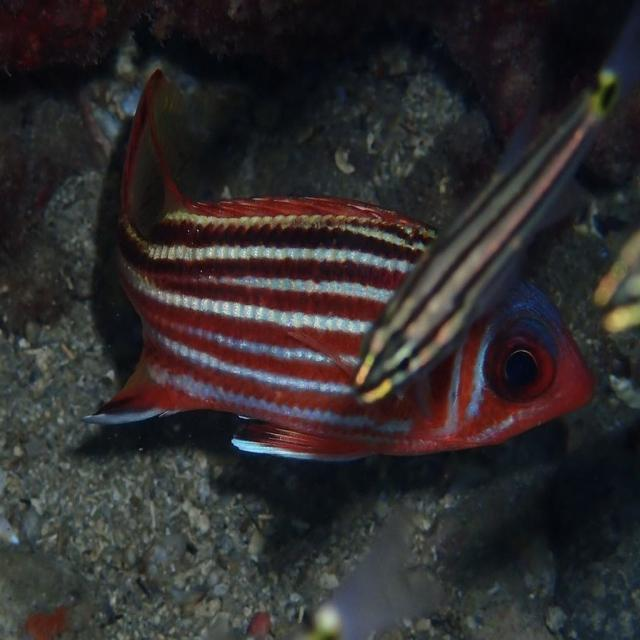Asker Baligi: (80, 65, 610, 464)
